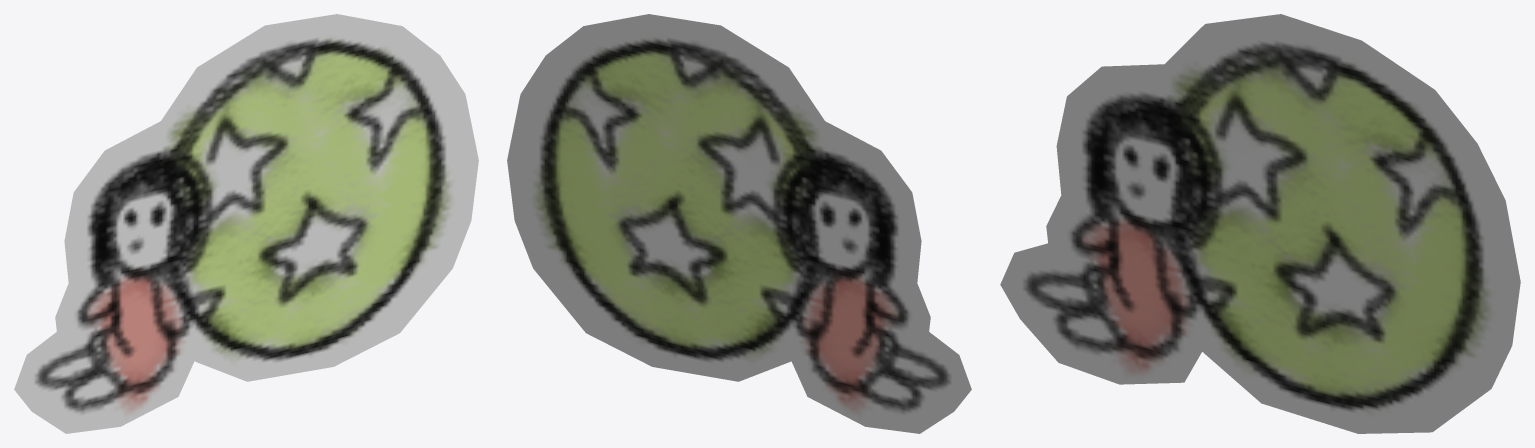
File: Bol.fbx
3 renders of one model, left to right at view 1: azimuth 30°, elevation 25°; view 2: azimuth 150°, elevation 25°; view 3: azimuth 330°, elevation 25°, orthographic. The views are drawn at different scales.
Visible parts, largest first — view 1: boll; view 2: boll; view 3: boll.
Part boxes in pixels (bbox=[...]): boll: bbox=[14, 14, 478, 433]; boll: bbox=[507, 14, 971, 433]; boll: bbox=[1000, 14, 1520, 433].
Size of the model in its own units: 36.65 by 27.58 by 4.49e-06.
1 material, 1 textured.
